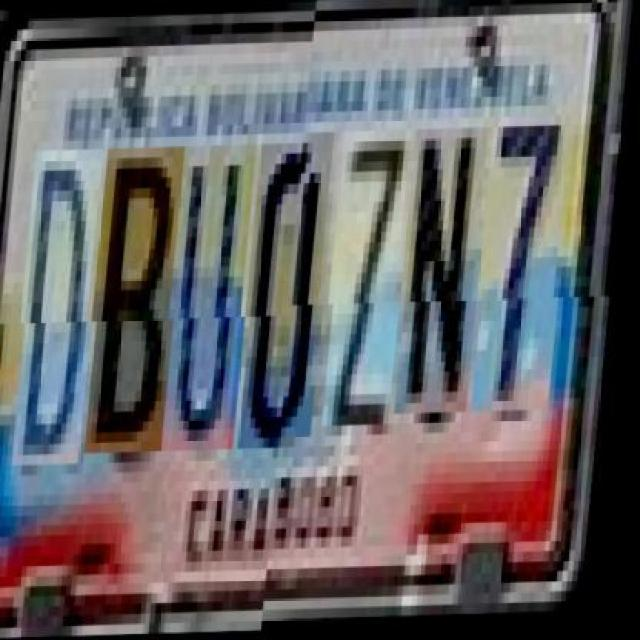0: (247, 144, 342, 451)
7: (478, 128, 578, 424)
b: (94, 147, 194, 455)
d: (20, 149, 111, 466)
n: (402, 141, 496, 427)
u: (170, 145, 265, 453)
z: (330, 143, 419, 440)
